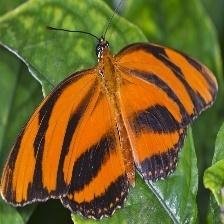butterfly: (1, 39, 219, 218)
